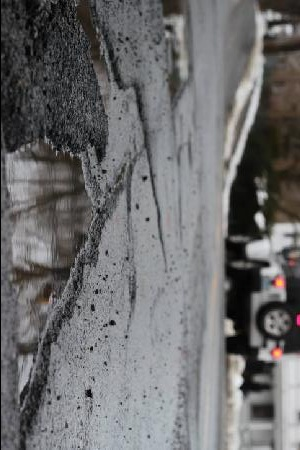pothole: (3, 131, 106, 422), (72, 0, 151, 194), (159, 0, 195, 110)
